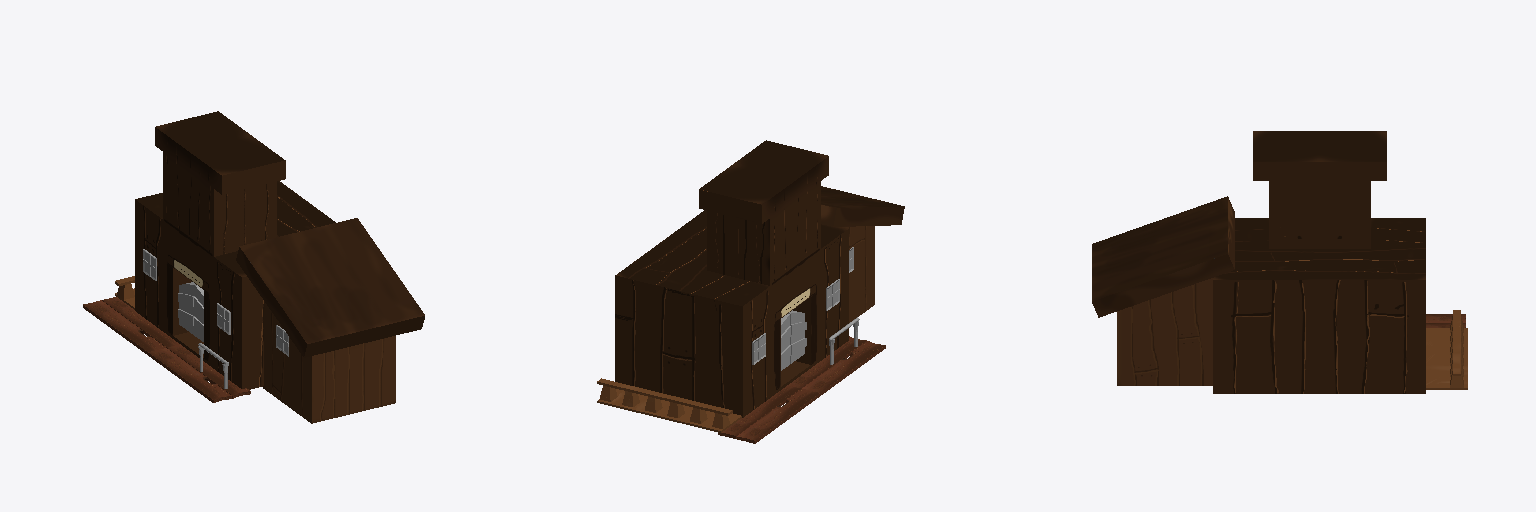
The picture shows the model from 3 angles: view 1: azimuth 30°, elevation 25°; view 2: azimuth 150°, elevation 25°; view 3: azimuth 270°, elevation 25°; orthographic projection.
Visible parts, largest first — view 1: Cylinder.008_Cylinder.006; view 2: Cylinder.008_Cylinder.006; view 3: Cylinder.008_Cylinder.006.
Boxes of the visible parts, x1,y1,x2,y2 form: Cylinder.008_Cylinder.006: [83, 111, 424, 423]; Cylinder.008_Cylinder.006: [597, 140, 904, 443]; Cylinder.008_Cylinder.006: [1092, 131, 1467, 393].
Size of the model in its own units: 10.84 by 13.17 by 22.07.
7 materials, 4 textured.